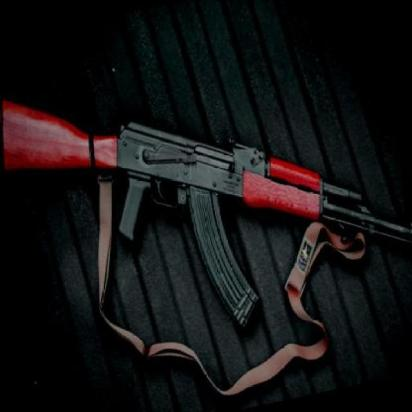Gun: (0, 7, 412, 370)
